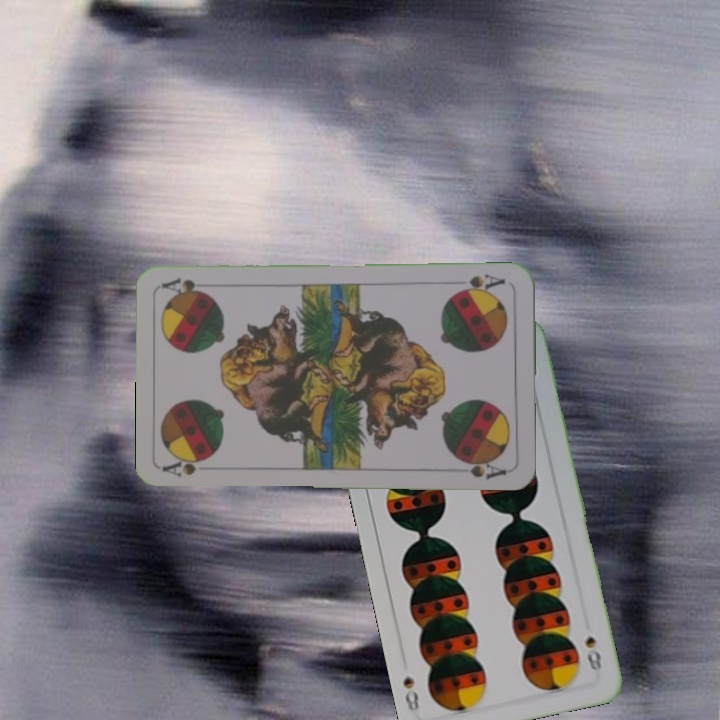S8: (581, 632, 604, 678)
SA: (451, 270, 508, 296), (160, 454, 213, 479)
